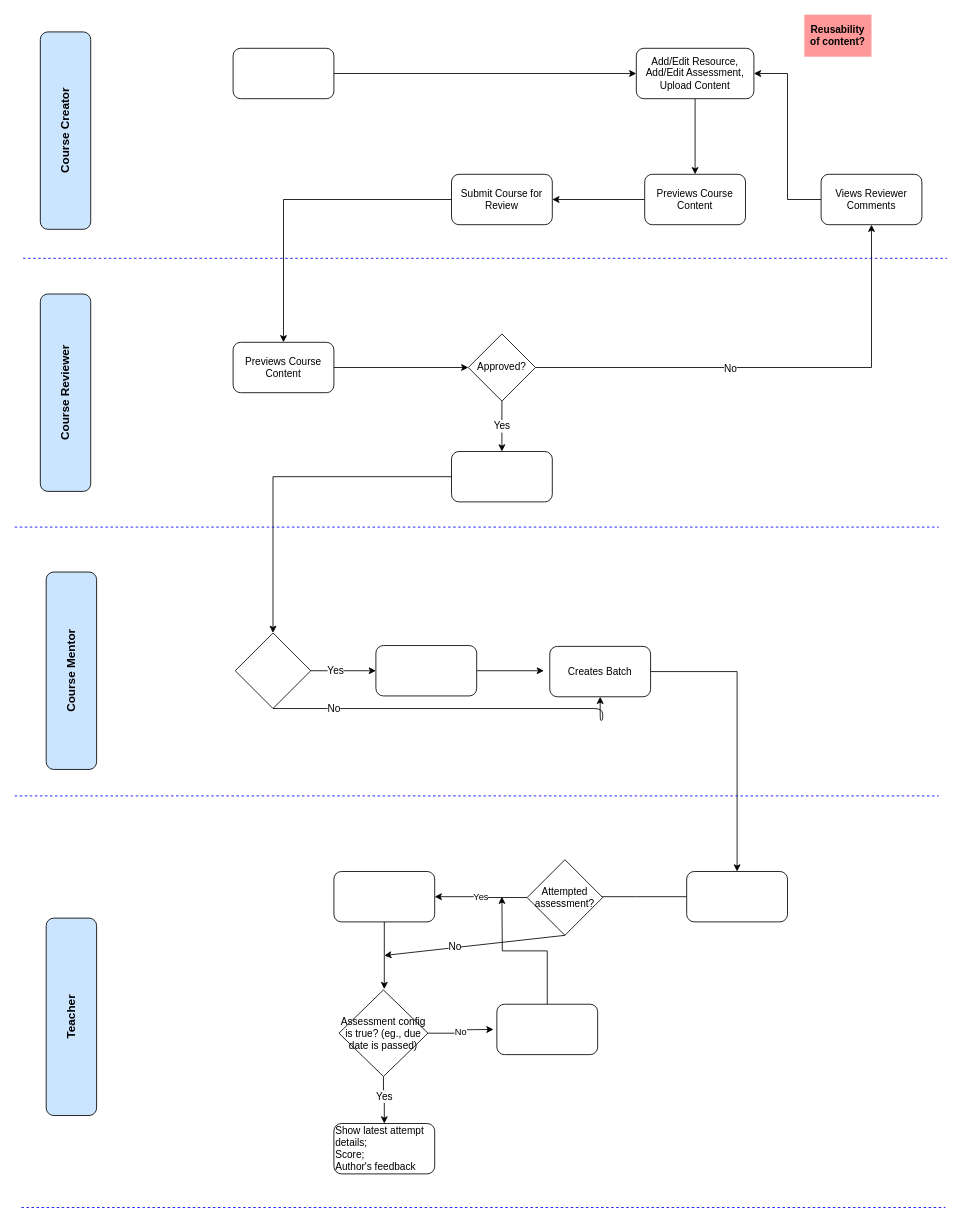
The diagram is 963 pixels wide and 1223 high, and some of its shapes have lost their labels. Here are the shapes that lost their labels. From the top down, the centre of each, then its label:
the point at 283,73: Create Course ToC
the point at 501,476: Course is published
the point at 272,670: Course has assessments
the point at 426,670: Configures: Assessment due date
the point at 384,896: Show previous attempt details
the point at 737,896: Enrolls into course with assessments
the point at 547,1029: Show latest attempt details; Allow user to attempt again
